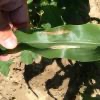Corn leaf blight: (18, 24, 100, 62)
